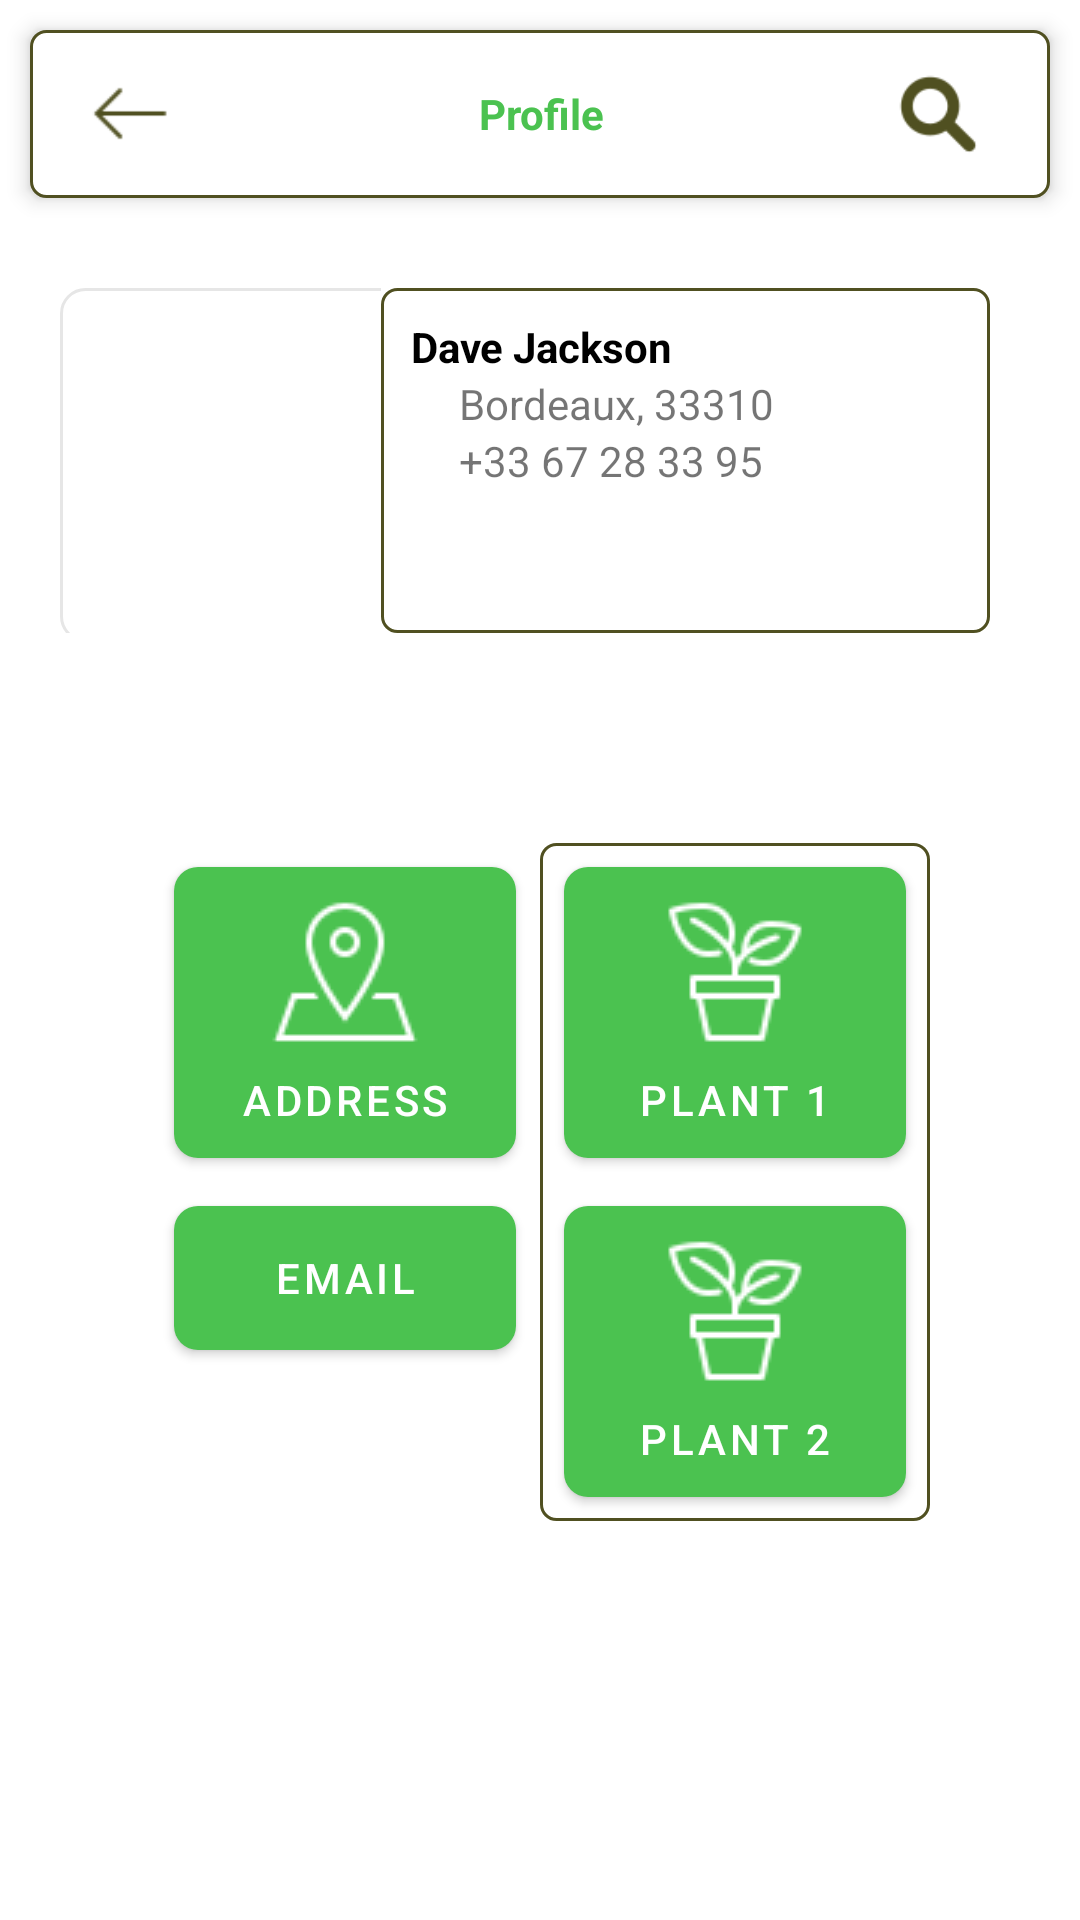

Screen size 1080 × 1920. Icon name, then its center in pixels as (x=x, y=y):
chercher: (x=938, y=114)
prev: (x=130, y=113)
